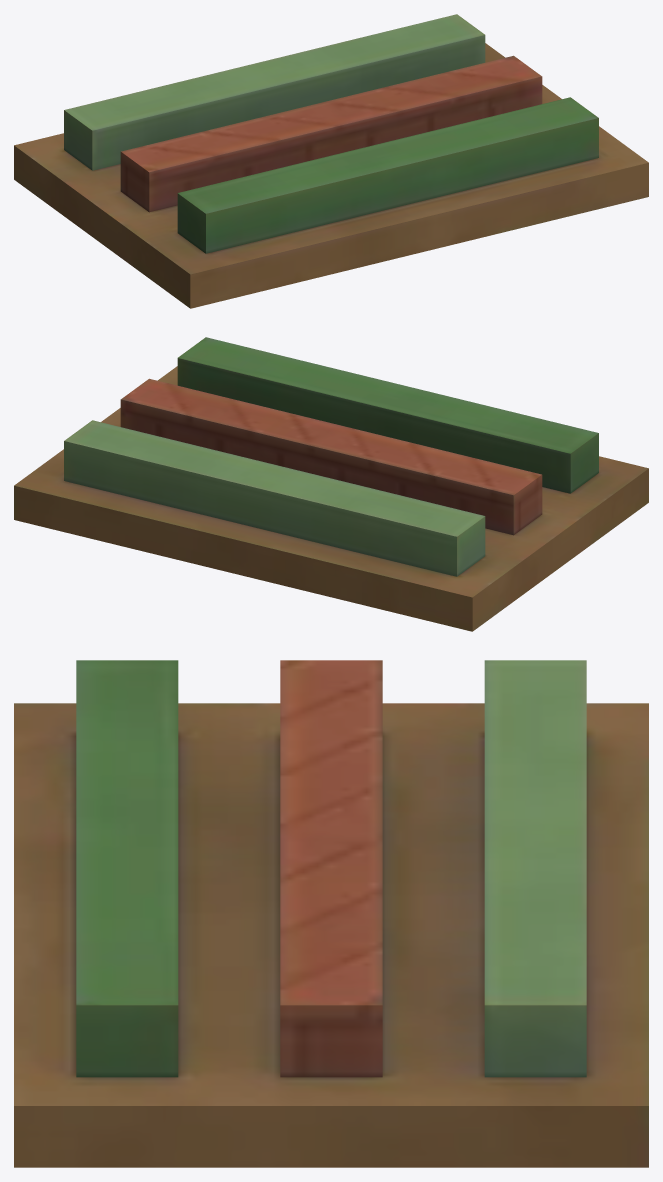
File: life-plant-veg.glb
The picture shows the model from 3 angles, top to bottom: view 1: azimuth 30°, elevation 25°; view 2: azimuth 150°, elevation 25°; view 3: azimuth 270°, elevation 25°; orthographic projection. The views are drawn at different scales.
Visible parts, largest first — view 1: life-plant-veg; view 2: life-plant-veg; view 3: life-plant-veg.
Boxes of the visible parts, box(x1,y1,x2,y2) form: life-plant-veg: box(14, 14, 648, 308); life-plant-veg: box(14, 337, 648, 631); life-plant-veg: box(14, 660, 648, 1167).
Bounding box in the file's own units: 0.42 × 0.065 × 0.28.
Materials: 1 (1 with a texture image).
